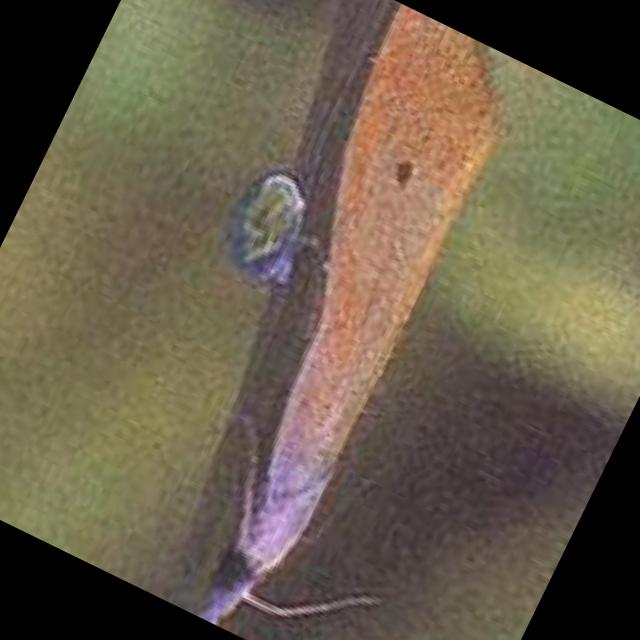stem-borer: (131, 9, 544, 640)
